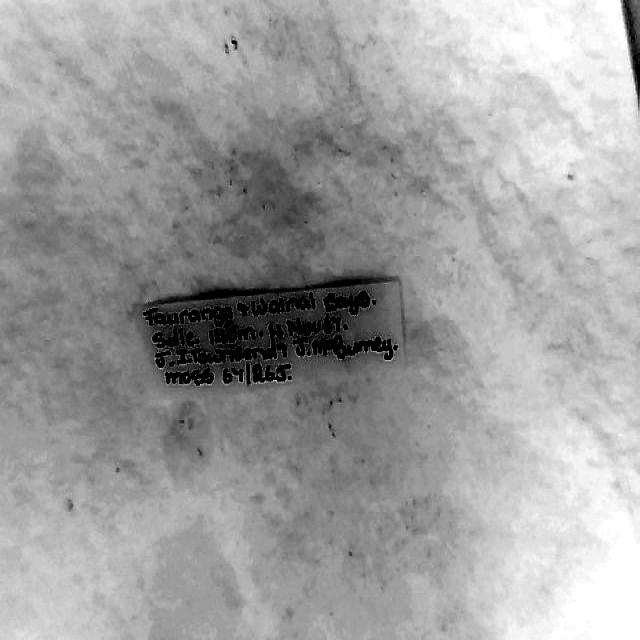hand_label: (141, 278, 404, 391)
